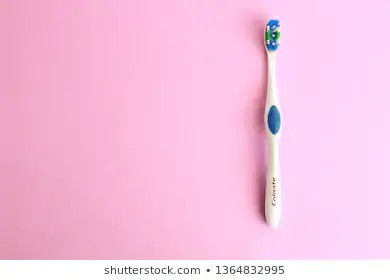toothbrush: (255, 16, 290, 226)
